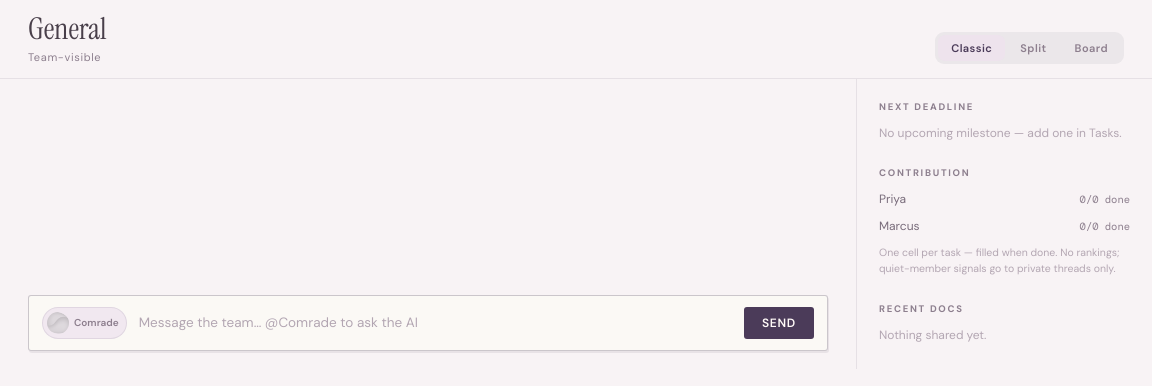
a turn that cannot run › a busy room says so instead of silently answering nothing
In the field with placeholder "Message the team… @Comrade to ask the AI": (435, 322) [137,306,734,338], type "@comrade what is left?"
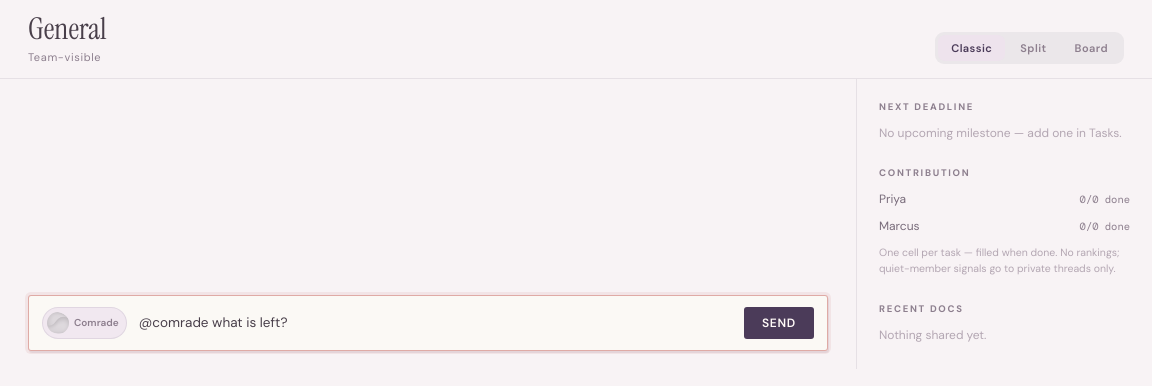
Click the button "SEND": click(779, 322) [744,306,814,338]
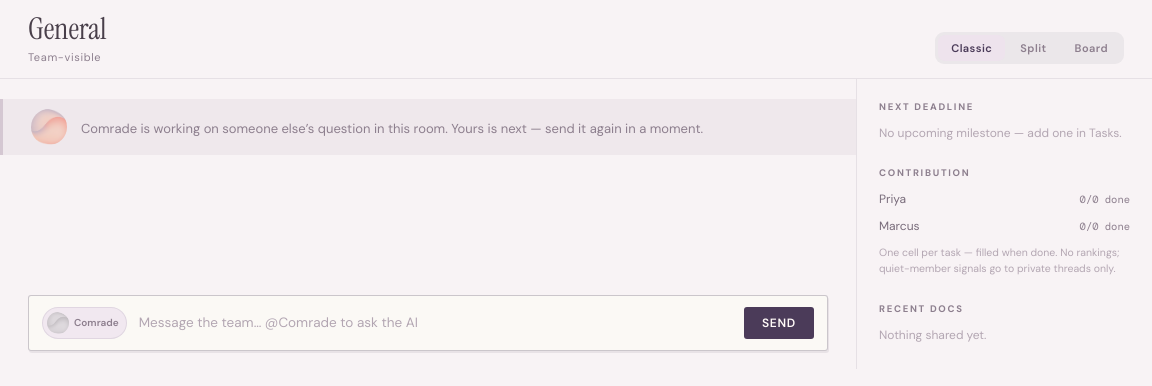
Check: the text "Yours is next" is shown, box [81,120,703,137]
